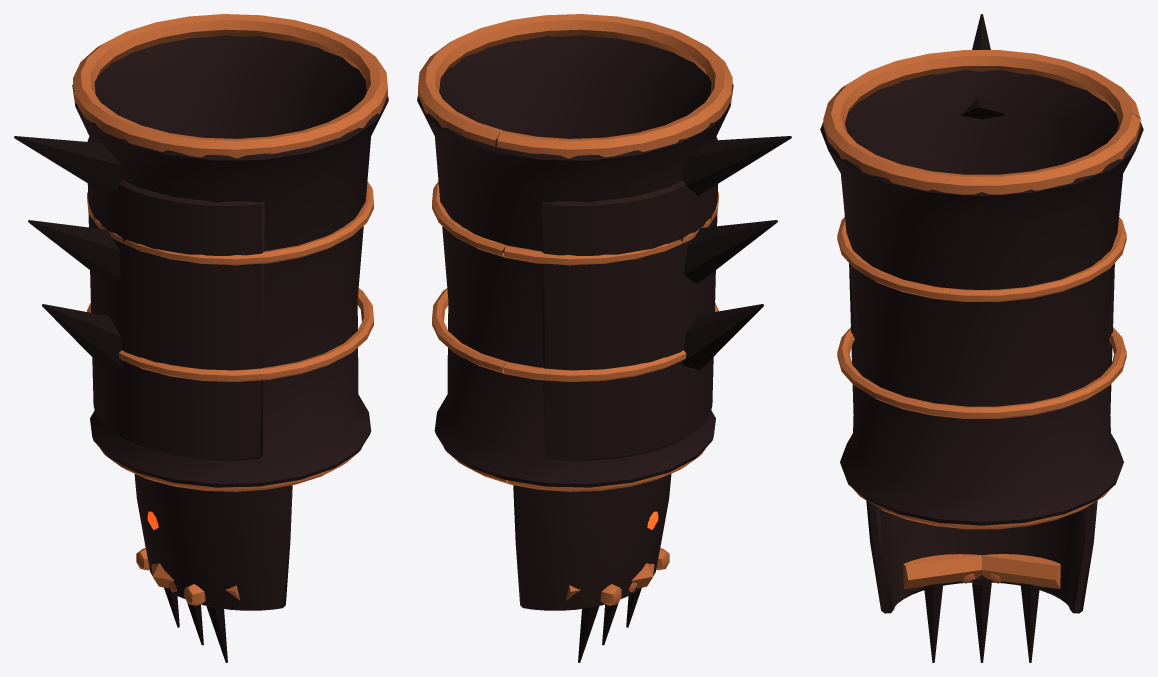
The model's file is asc_worldforger_gloves_R.glb.
3 views of the same model, side by side, from view 1: azimuth 30°, elevation 25°; view 2: azimuth 150°, elevation 25°; view 3: azimuth 270°, elevation 25° (orthographic).
Parts seen in each view (by area): view 1: asc_worldforger_gloves, AT_hand_R; view 2: asc_worldforger_gloves, AT_hand_R; view 3: asc_worldforger_gloves, AT_hand_R.
Boxes of the visible parts, x1,y1,x2,y2 form: asc_worldforger_gloves: (14,14,388,491); AT_hand_R: (134,474,292,662); asc_worldforger_gloves: (417,14,791,491); AT_hand_R: (513,474,671,662); asc_worldforger_gloves: (820,14,1143,529); AT_hand_R: (866,500,1097,662).
Bounding box in the file's own units: 0.2539 × 0.385 × 0.2004.
